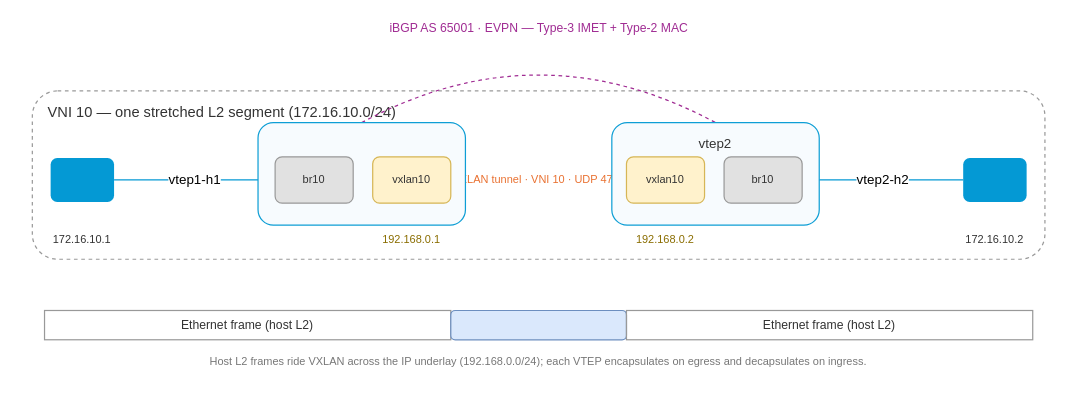
This 1076x393 diagram has some shape labels left out. The box of each missing label's shape, as (x1, y1, x2, y2) in pixels:
h1: (50, 157, 113, 201)
h2: (963, 157, 1026, 201)
vtep1: (257, 121, 465, 225)
VXLAN over IP: (450, 309, 626, 340)
